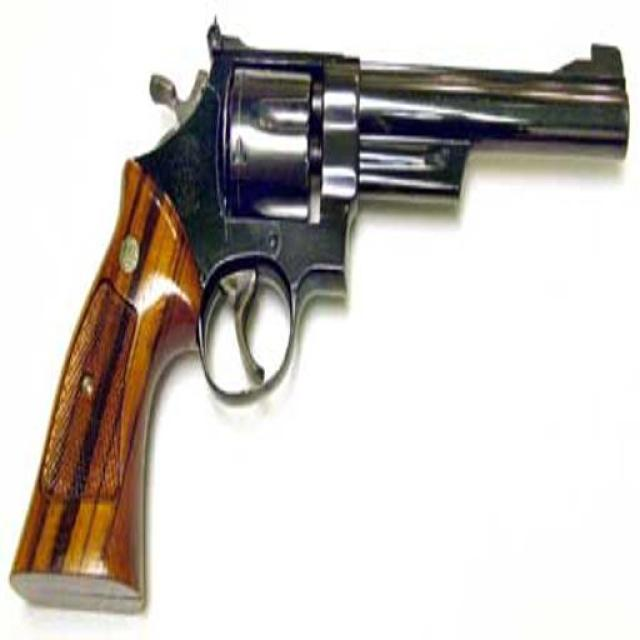pistol: (6, 16, 630, 616)
